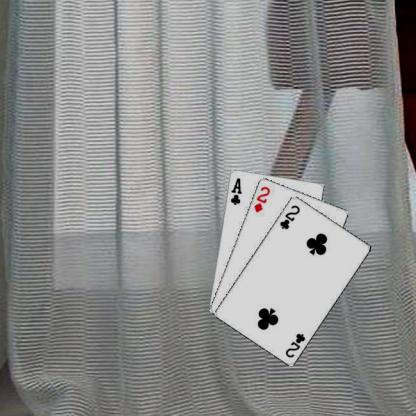2C: (277, 202, 302, 230), (282, 330, 307, 358)
2D: (252, 184, 270, 213)
AC: (228, 176, 242, 206)
